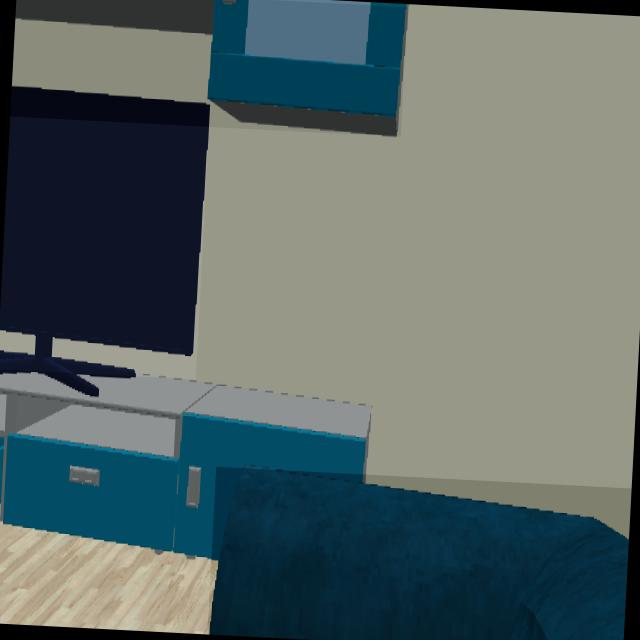cabinet: (0, 375, 372, 562), (15, 0, 406, 137)
monitor: (0, 86, 210, 399)
sofa: (207, 469, 629, 640)
